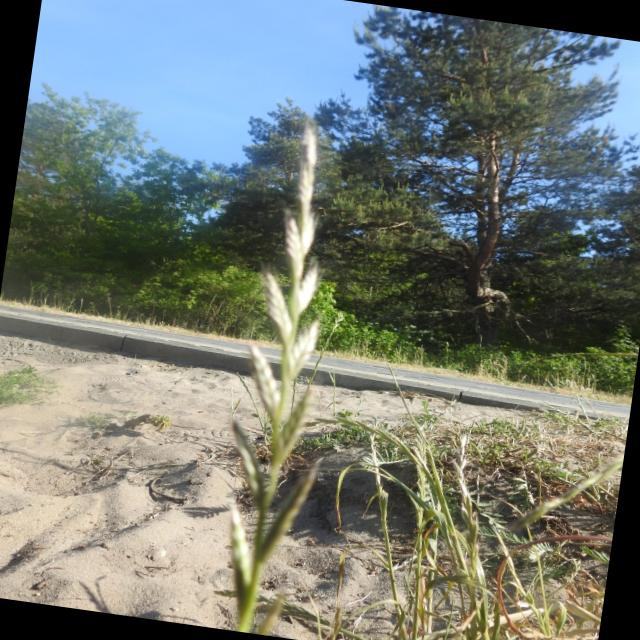Lolium: (177, 105, 423, 640), (381, 409, 543, 640), (477, 536, 583, 640), (317, 409, 448, 488)
